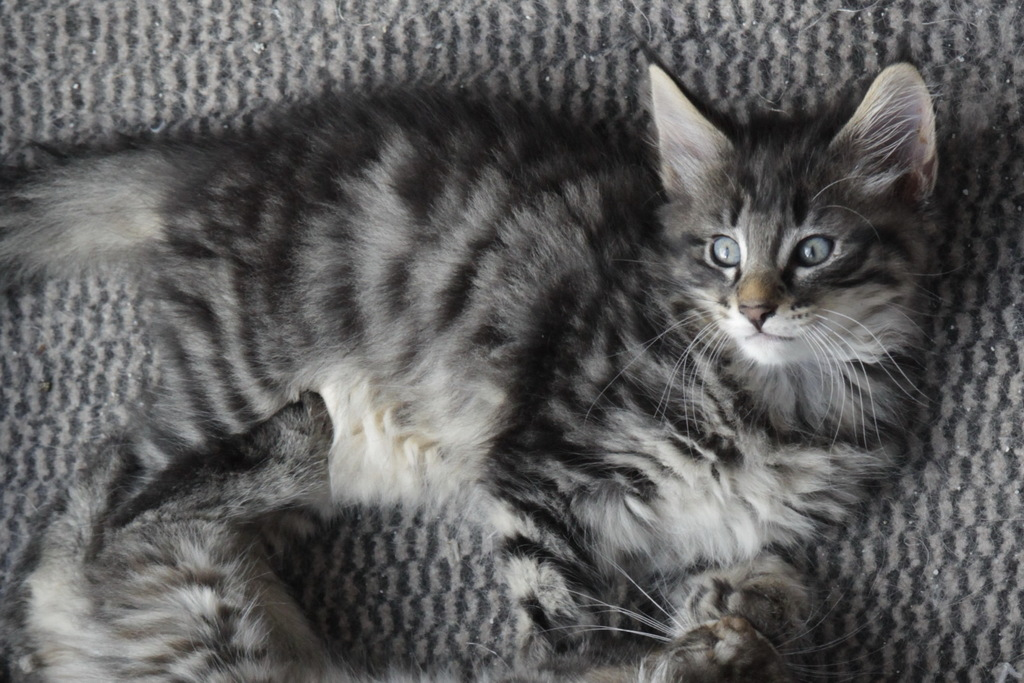cat: (11, 29, 953, 638)
